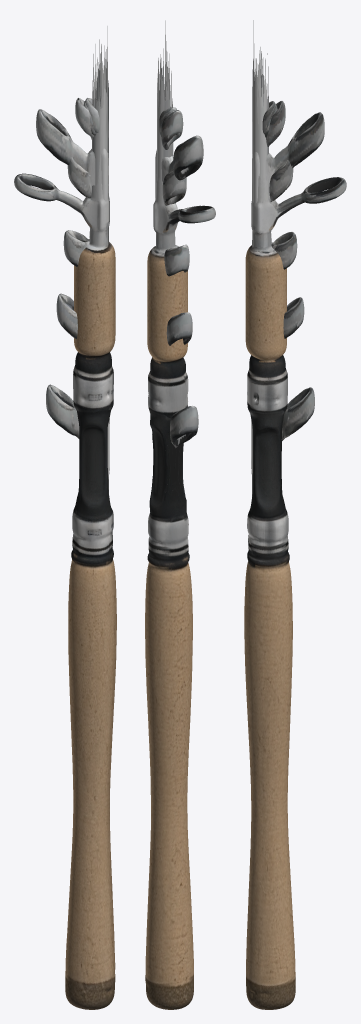
The model's file is spin_hokuto.glb.
3 views of the same model, side by side, from view 1: azimuth 90°, elevation 25°; view 2: azimuth 210°, elevation 25°; view 3: azimuth 270°, elevation 25° (orthographic).
Visible parts, largest first — view 1: Handle, Seg1, Seg3, Seg0, Seg4, Seg5, Seg6, Seg7, Seg2; view 2: Handle, Seg1, Seg3, Seg0, Seg4, Seg5, Seg6, Seg7; view 3: Handle, Seg1, Seg3, Seg0, Seg5, Seg6, Seg4, Seg7.
Part boxes in pixels (x1=…): Handle: x1=14, y1=130, x2=116, y2=1009; Seg1: x1=36, y1=44, x2=108, y2=200; Seg3: x1=46, y1=57, x2=109, y2=477; Seg0: x1=92, y1=26, x2=108, y2=493; Seg4: x1=56, y1=53, x2=103, y2=338; Seg5: x1=63, y1=39, x2=106, y2=266; Seg6: x1=67, y1=46, x2=106, y2=198; Seg7: x1=75, y1=96, x2=100, y2=139; Seg2: x1=95, y1=59, x2=108, y2=108; Handle: x1=145, y1=174, x2=215, y2=1009; Seg1: x1=155, y1=48, x2=203, y2=205; Seg3: x1=159, y1=63, x2=198, y2=448; Seg0: x1=157, y1=20, x2=173, y2=182; Seg4: x1=160, y1=54, x2=192, y2=345; Seg5: x1=159, y1=52, x2=189, y2=276; Seg6: x1=160, y1=51, x2=186, y2=204; Seg7: x1=161, y1=110, x2=183, y2=149; Handle: x1=244, y1=176, x2=346, y2=1009; Seg1: x1=252, y1=50, x2=324, y2=203; Seg3: x1=251, y1=57, x2=314, y2=475; Seg0: x1=252, y1=20, x2=268, y2=496; Seg5: x1=253, y1=51, x2=297, y2=269; Seg6: x1=255, y1=53, x2=293, y2=201; Seg4: x1=253, y1=47, x2=304, y2=338; Seg7: x1=266, y1=101, x2=285, y2=146.
Size of the model in its own units: 0.0307 by 0.6902 by 0.0648.
Materials: 1 (1 with a texture image).
